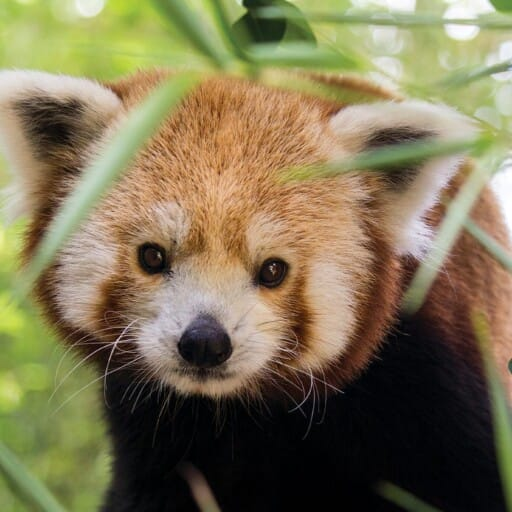Red panda: (0, 60, 467, 412)
